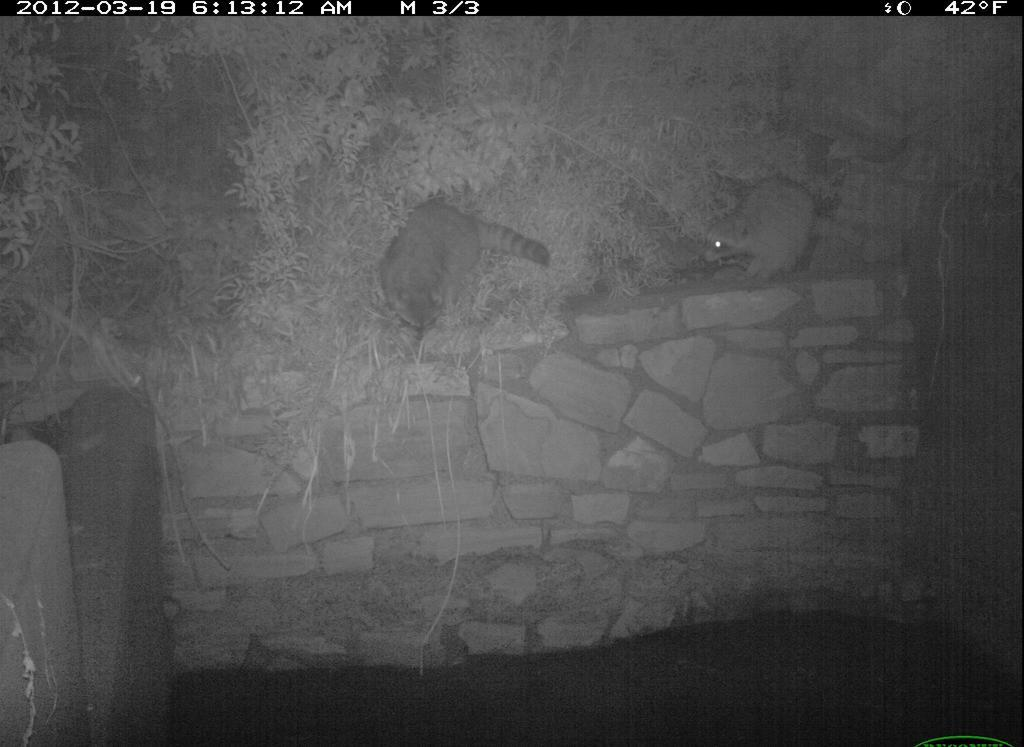raccoon: (368, 190, 564, 358), (683, 166, 885, 296)
